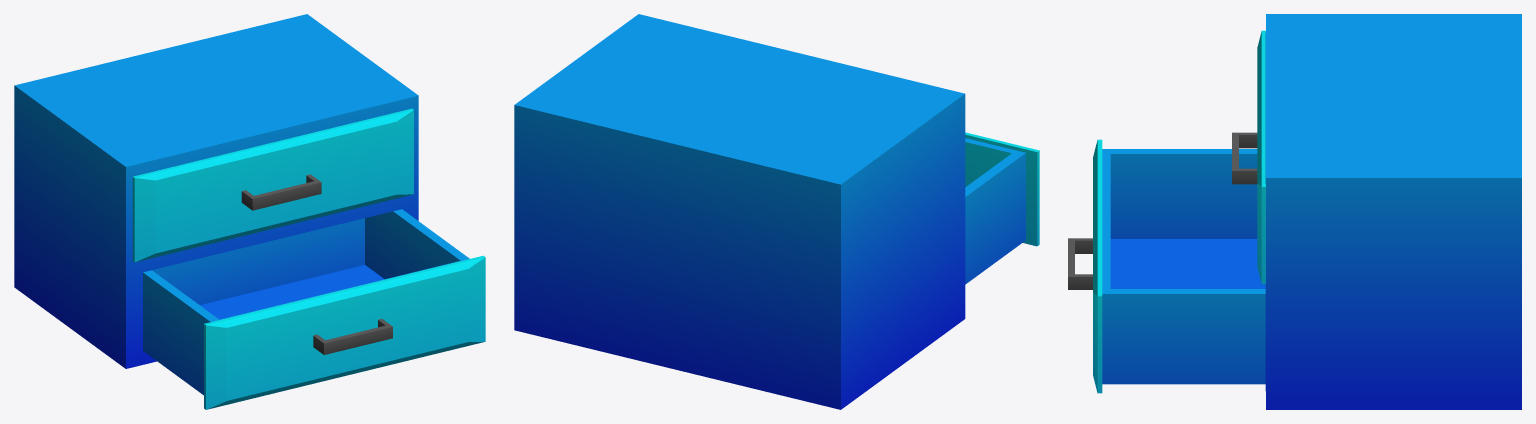
The model's file is SM_CajonAbierto.fbx.
The picture shows the model from 3 angles, left to right: view 1: azimuth 30°, elevation 25°; view 2: azimuth 150°, elevation 25°; view 3: azimuth 270°, elevation 25°; orthographic projection. The views are drawn at different scales.
Visible parts, largest first — view 1: CajonAbierto; view 2: CajonAbierto; view 3: CajonAbierto.
Boxes of the visible parts, x1=… form: CajonAbierto: x1=14, y1=14, x2=485, y2=409; CajonAbierto: x1=514, y1=14, x2=1039, y2=409; CajonAbierto: x1=1068, y1=14, x2=1521, y2=409.
Size of the model in its own units: 152 by 100 by 177.
